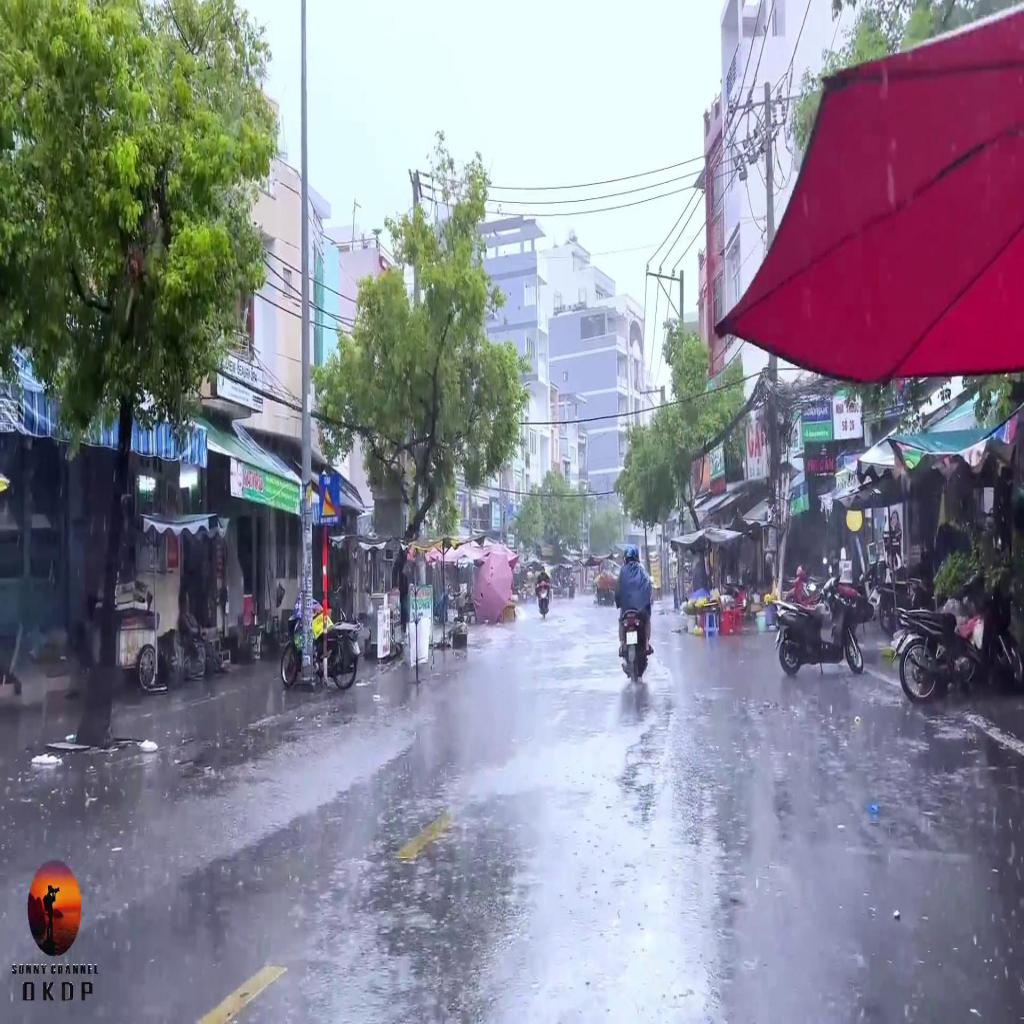khac: (319, 474, 340, 525)
